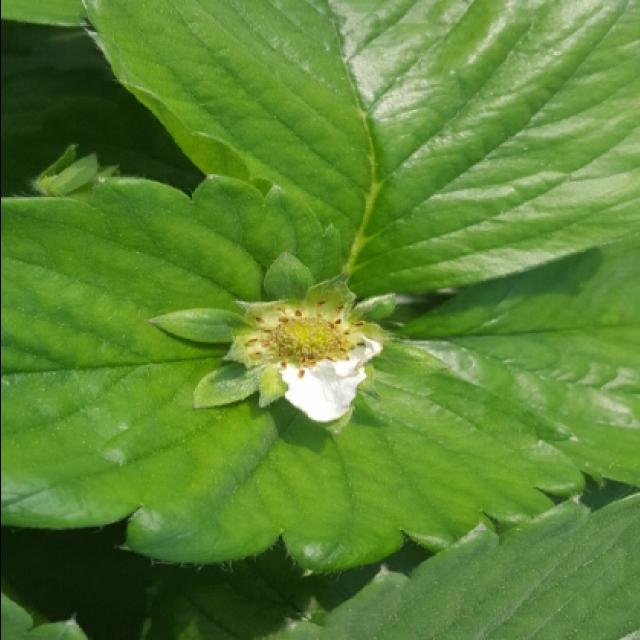Blossom Blight: (238, 295, 370, 381)
